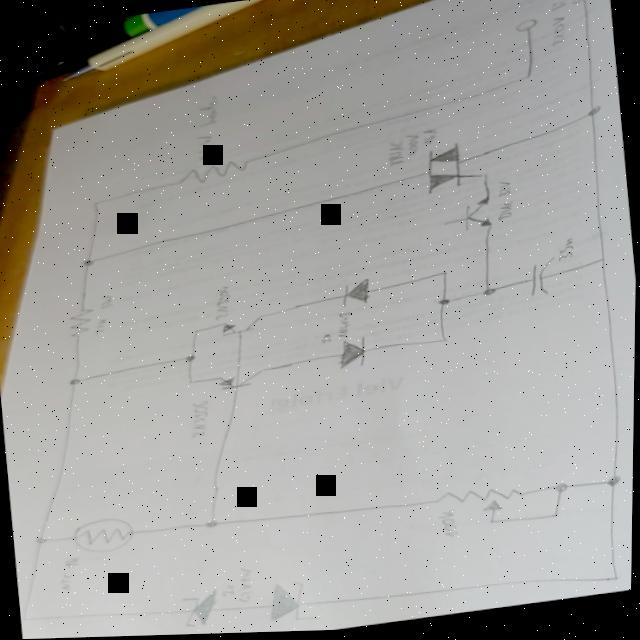capacitor: (524, 261, 555, 301)
diode: (264, 577, 325, 629), (178, 588, 225, 630), (335, 337, 370, 372), (338, 279, 374, 310)
junction: (598, 475, 628, 494), (550, 482, 575, 498), (203, 519, 222, 532), (480, 288, 499, 301), (78, 257, 97, 269), (33, 534, 50, 546), (585, 108, 602, 120), (66, 376, 83, 387), (547, 513, 564, 524), (435, 299, 451, 309), (182, 355, 197, 364), (88, 199, 103, 207), (610, 577, 623, 586), (485, 520, 498, 528), (438, 338, 451, 346), (595, 259, 607, 267), (437, 272, 450, 279), (477, 174, 490, 181), (520, 76, 533, 83), (22, 615, 32, 623), (187, 380, 197, 386), (192, 329, 200, 334)
resistor: (434, 482, 531, 521), (68, 514, 141, 557), (171, 159, 253, 188), (64, 305, 97, 339)
terminal: (510, 20, 539, 37), (575, 0, 592, 6)
text: (185, 399, 216, 441), (193, 94, 223, 129), (210, 285, 236, 323), (545, 18, 571, 51), (437, 510, 462, 543), (192, 133, 219, 163), (553, 239, 579, 265), (332, 312, 356, 340), (383, 141, 406, 170), (58, 570, 82, 593), (495, 201, 518, 224), (236, 582, 257, 605), (419, 128, 439, 149), (403, 135, 420, 159), (545, 0, 570, 16), (236, 566, 256, 585), (92, 316, 110, 336), (495, 182, 513, 200), (62, 554, 83, 569), (99, 294, 116, 311), (221, 583, 237, 599), (318, 334, 334, 345)
transistor: (212, 368, 270, 393), (217, 315, 266, 339)
